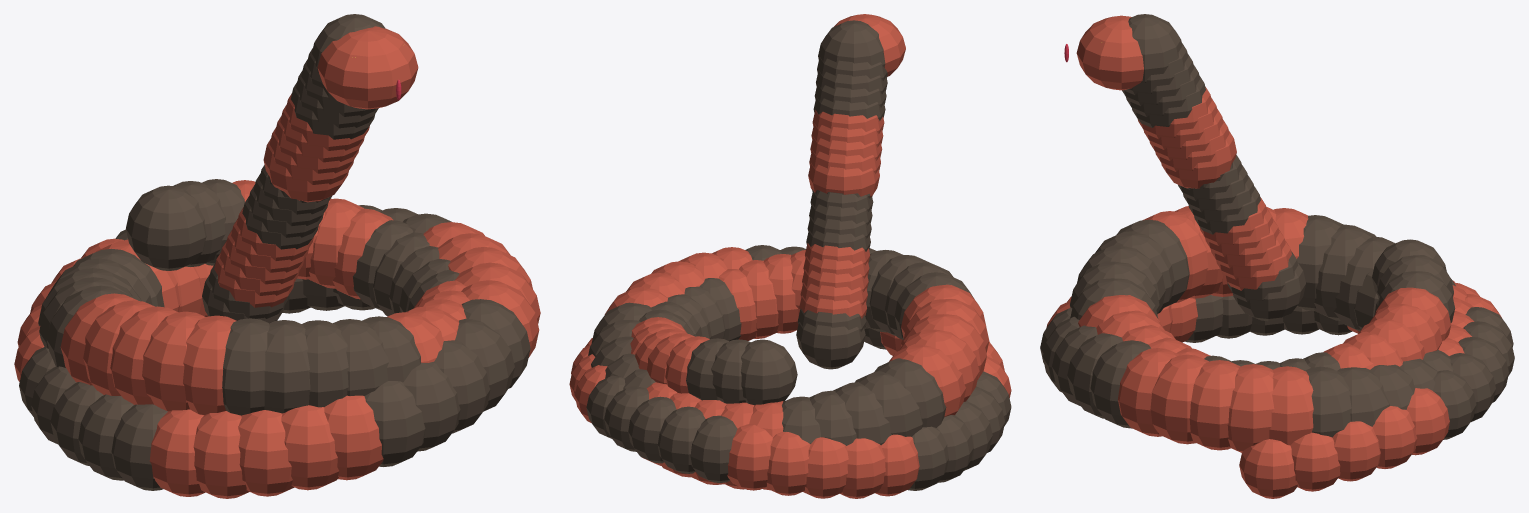
File: Snake_Coil_Red.glb
The picture shows the model from 3 angles, left to right: view 1: azimuth 30°, elevation 25°; view 2: azimuth 150°, elevation 25°; view 3: azimuth 270°, elevation 25°; orthographic projection. The views are drawn at different scales.
Visible parts, largest first — view 1: Snake_Coil_Red; view 2: Snake_Coil_Red; view 3: Snake_Coil_Red.
Boxes of the visible parts, x1,y1,x2,y2 form: Snake_Coil_Red: (14, 14, 540, 498); Snake_Coil_Red: (569, 14, 1011, 498); Snake_Coil_Red: (1040, 14, 1514, 498).
Size of the model in its own units: 0.6813 by 0.6182 by 0.668.
